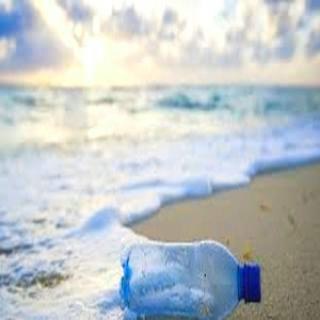Plastic: (119, 237, 261, 320)
